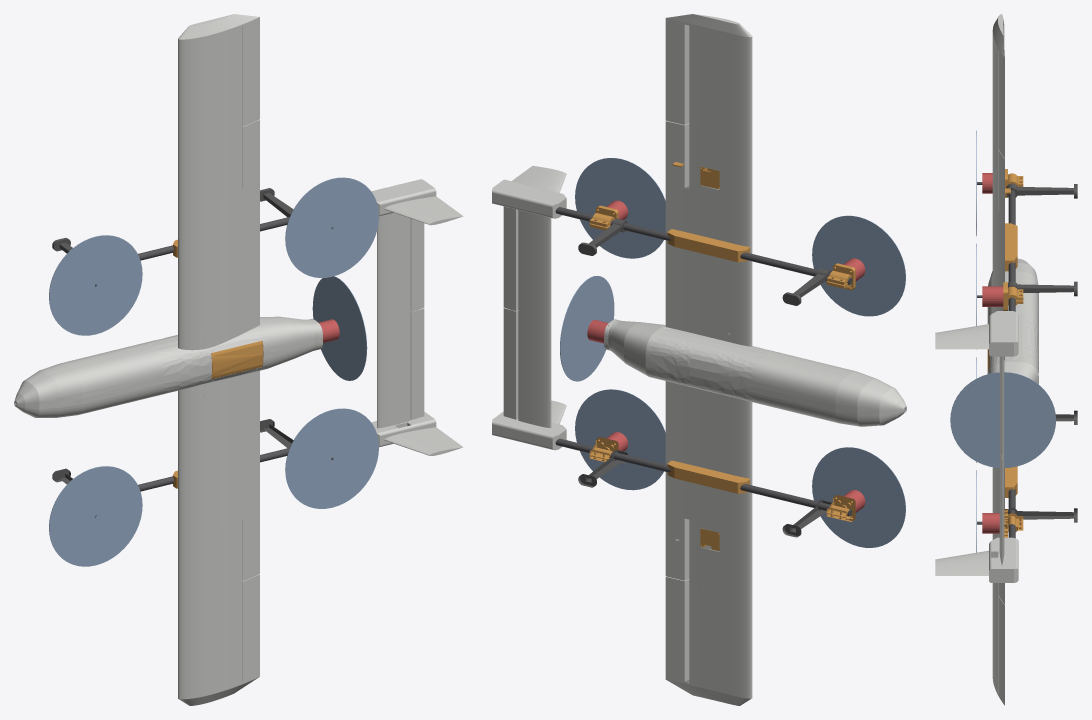
The model's file is assemblage.glb.
The picture shows the model from 3 angles, left to right: view 1: azimuth 30°, elevation 25°; view 2: azimuth 150°, elevation 25°; view 3: azimuth 270°, elevation 25°; orthographic projection. The views are drawn at different scales.
Parts seen in each view (by area): view 1: PLA Aero_0, PLA Aero_1, PLA Aero_3, PLA Aero_2, helice_57, helice_60, helice_49, helice_52, PLA Aero_5, PLA Aero_4, PLA Aero_15, helice_65 (+15 smaller); view 2: PLA Aero_0, PLA Aero_2, PLA Aero_3, PLA Aero_1, PLA Aero_5, PLA Aero_4, helice_57, helice_49, PLA Aero_15, PLA Aero_16, helice_60, helice_52 (+19 smaller); view 3: helice_65, PLA Aero_33, PLA Aero_34, PLA Aero_16, PLA Aero_15, PLA Aero_2, PLA Aero_4, PLA Aero_5, PLA Aero_9, PLA Aero_8, TPU 95A_29, PLA Aero_17 (+18 smaller).
Boxes of the visible parts, box(x1,y1,x2,y2) form: PLA Aero_0: box(178, 222, 259, 350); PLA Aero_1: box(178, 371, 259, 494); PLA Aero_3: box(178, 471, 259, 596); PLA Aero_2: box(178, 127, 259, 244); helice_57: box(49, 235, 142, 335); helice_60: box(285, 177, 378, 277); helice_49: box(49, 466, 142, 566); helice_52: box(285, 408, 378, 508); PLA Aero_5: box(178, 582, 259, 699); PLA Aero_4: box(178, 17, 259, 142); PLA Aero_15: box(35, 343, 163, 417); helice_65: box(312, 276, 367, 380); PLA Aero_0: box(665, 224, 752, 346); PLA Aero_2: box(665, 126, 752, 242); PLA Aero_3: box(665, 474, 752, 595); PLA Aero_1: box(665, 381, 752, 492); PLA Aero_5: box(665, 582, 752, 698); PLA Aero_4: box(665, 18, 752, 139); helice_57: box(812, 215, 905, 316); helice_49: box(812, 447, 905, 547); PLA Aero_15: box(753, 351, 881, 426); PLA Aero_16: box(648, 327, 773, 403); helice_60: box(575, 158, 665, 258); helice_52: box(575, 389, 665, 490); helice_65: box(950, 372, 1055, 467); PLA Aero_33: box(935, 311, 1018, 356); PLA Aero_34: box(935, 537, 1018, 582); PLA Aero_16: box(987, 310, 1038, 377); PLA Aero_15: box(987, 261, 1038, 327); PLA Aero_2: box(992, 132, 1004, 259); PLA Aero_4: box(992, 32, 1004, 148); PLA Aero_5: box(992, 583, 1004, 705); PLA Aero_9: box(998, 596, 1004, 703); PLA Aero_8: box(998, 51, 1004, 158); TPU 95A_29: box(1006, 183, 1077, 198); PLA Aero_17: box(988, 360, 1038, 384).
Size of the model in its own units: 780 by 1236 by 239.
